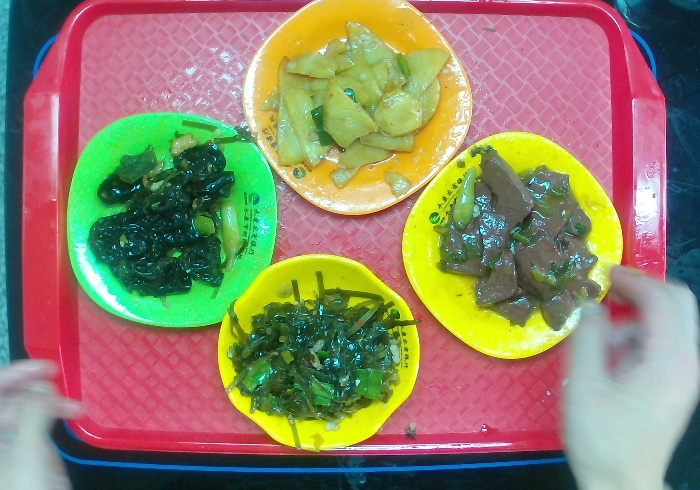YKMZ-Huang_Se_Ao_Bian_Wan: (209, 249, 423, 457)
YKMZ-Huang_Se_Fang_Die: (396, 126, 632, 366)
YKMZ-Ju_Se_Fang_Die: (239, 1, 483, 220)
YKMZ-Lv_Se_Fang_Die: (59, 104, 283, 331)
